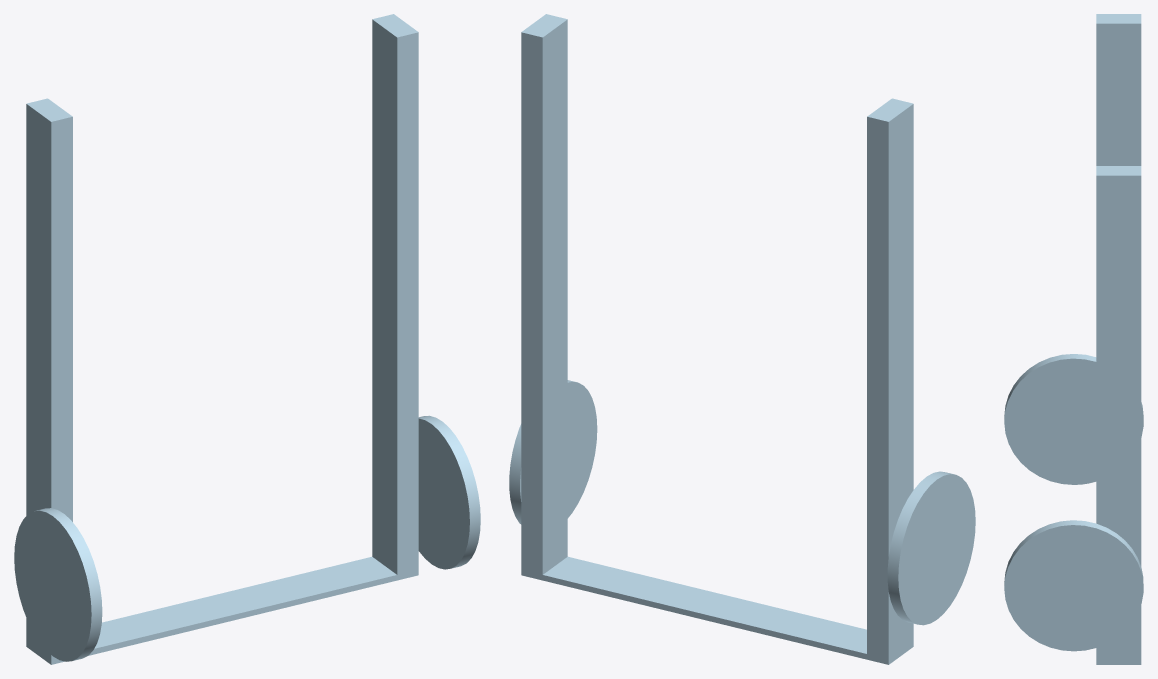
3 views of the same model, side by side, from view 1: azimuth 30°, elevation 25°; view 2: azimuth 150°, elevation 25°; view 3: azimuth 270°, elevation 25° (orthographic). The views are drawn at different scales.
Parts seen in each view (by area): view 1: BC ELEVATOR: BASE STAGE; view 2: BC ELEVATOR: BASE STAGE; view 3: BC ELEVATOR: BASE STAGE.
Part boxes in pixels (x1,y1,x2,y2): BC ELEVATOR: BASE STAGE: [14, 14, 480, 664]; BC ELEVATOR: BASE STAGE: [509, 14, 975, 664]; BC ELEVATOR: BASE STAGE: [1004, 14, 1143, 664].
Bounding box in the file's own units: 0.4572 × 0.6096 × 0.1575.
